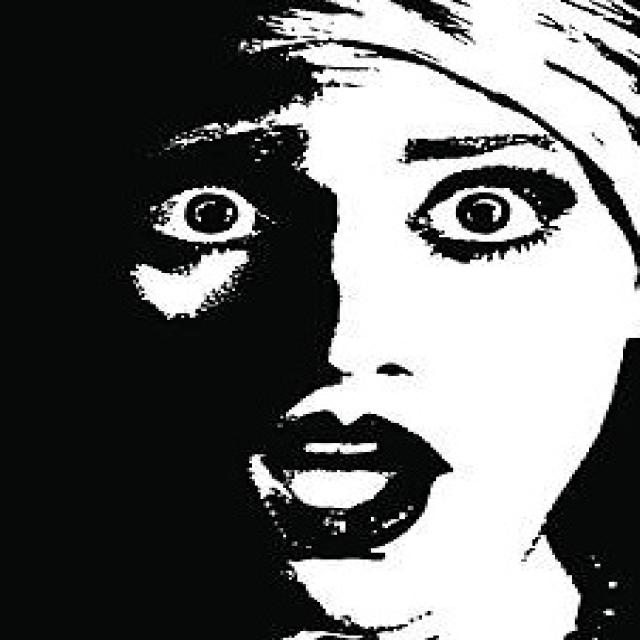Anxiety: (53, 42, 634, 633)
